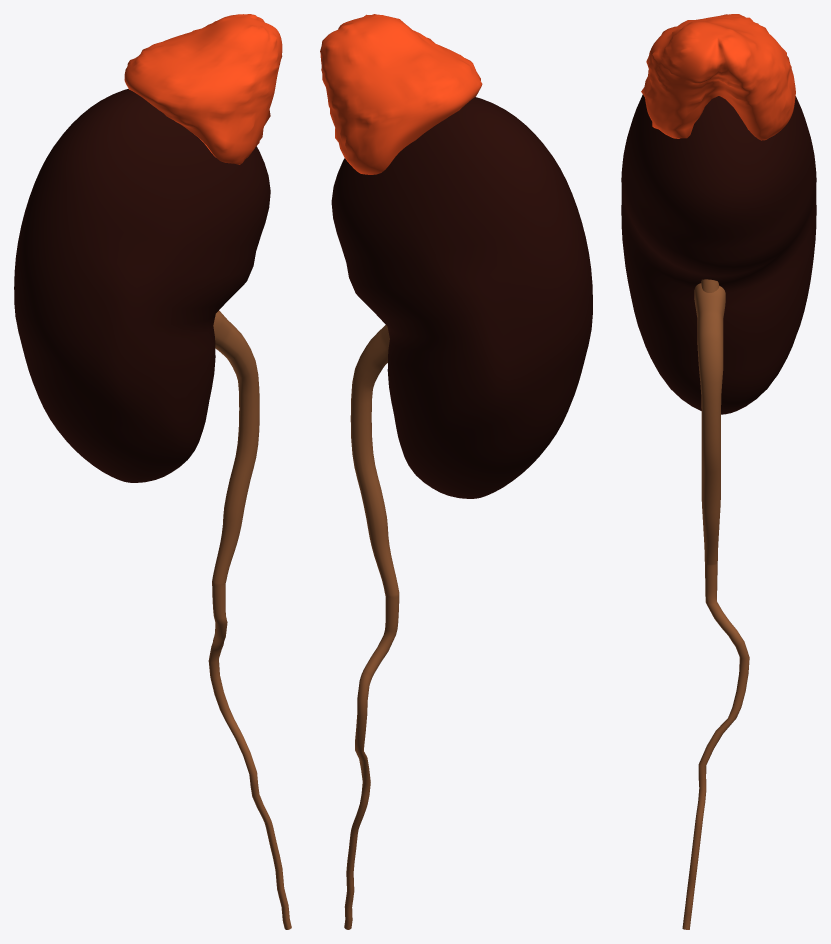
The model's file is only kidny.obj.
3 views of the same model, side by side, from view 1: azimuth 30°, elevation 25°; view 2: azimuth 150°, elevation 25°; view 3: azimuth 270°, elevation 25° (orthographic). The views are drawn at different scales.
Parts seen in each view (by area): view 1: group pasted__pasted__pasted__group5 pasted__pasted__group paste, left_gland pasted__group1 group, group left_veins1 pasted__pasted__pasted__group5 pasted__pasted_; view 2: group pasted__pasted__pasted__group5 pasted__pasted__group paste, left_gland pasted__group1 group, group left_veins1 pasted__pasted__pasted__group5 pasted__pasted_; view 3: group pasted__pasted__pasted__group5 pasted__pasted__group paste, left_gland pasted__group1 group, group left_veins1 pasted__pasted__pasted__group5 pasted__pasted_.
Boxes of the visible parts, box(x1,y1,x2,y2) form: group pasted__pasted__pasted__group5 pasted__pasted__group paste: box(14, 89, 270, 482); left_gland pasted__group1 group: box(124, 14, 282, 164); group left_veins1 pasted__pasted__pasted__group5 pasted__pasted_: box(208, 310, 291, 929); group pasted__pasted__pasted__group5 pasted__pasted__group paste: box(331, 97, 592, 498); left_gland pasted__group1 group: box(320, 14, 482, 174); group left_veins1 pasted__pasted__pasted__group5 pasted__pasted_: box(344, 325, 399, 929); group pasted__pasted__pasted__group5 pasted__pasted__group paste: box(621, 94, 816, 414); left_gland pasted__group1 group: box(641, 14, 795, 140); group left_veins1 pasted__pasted__pasted__group5 pasted__pasted_: box(682, 279, 749, 929).
Size of the model in its own units: 4.53 by 15.85 by 3.17.
